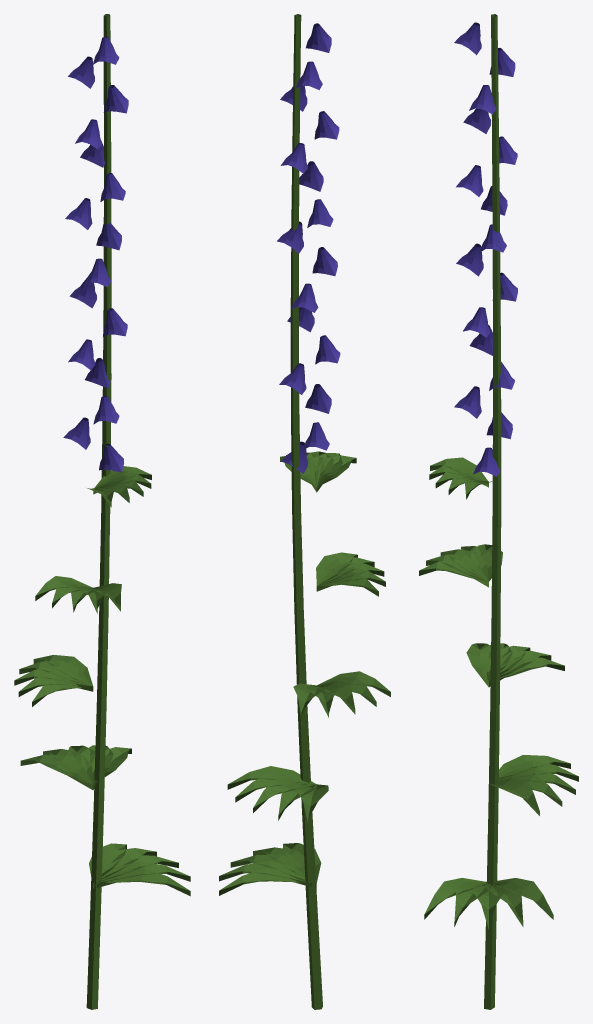
File: tojad.glb
3 views of the same model, side by side, from view 1: azimuth 30°, elevation 25°; view 2: azimuth 150°, elevation 25°; view 3: azimuth 270°, elevation 25° (orthographic).
Visible parts, largest first — view 1: tojad; view 2: tojad; view 3: tojad.
Part boxes in pixels (x1,y1,x2,y2): tojad: (14,14,190,1009); tojad: (219,14,390,1009); tojad: (419,14,578,1009).
Bounding box in the file's own units: 0.179 × 1.1 × 0.1593.
